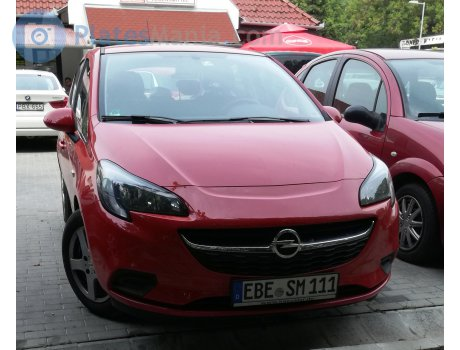License Plates: (245, 281, 338, 294)
